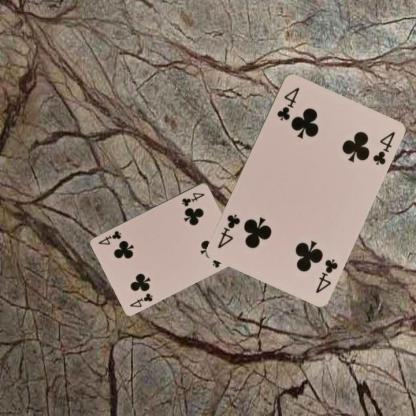4c: (274, 84, 301, 122), (313, 255, 339, 294), (179, 190, 206, 208), (127, 290, 154, 308)
